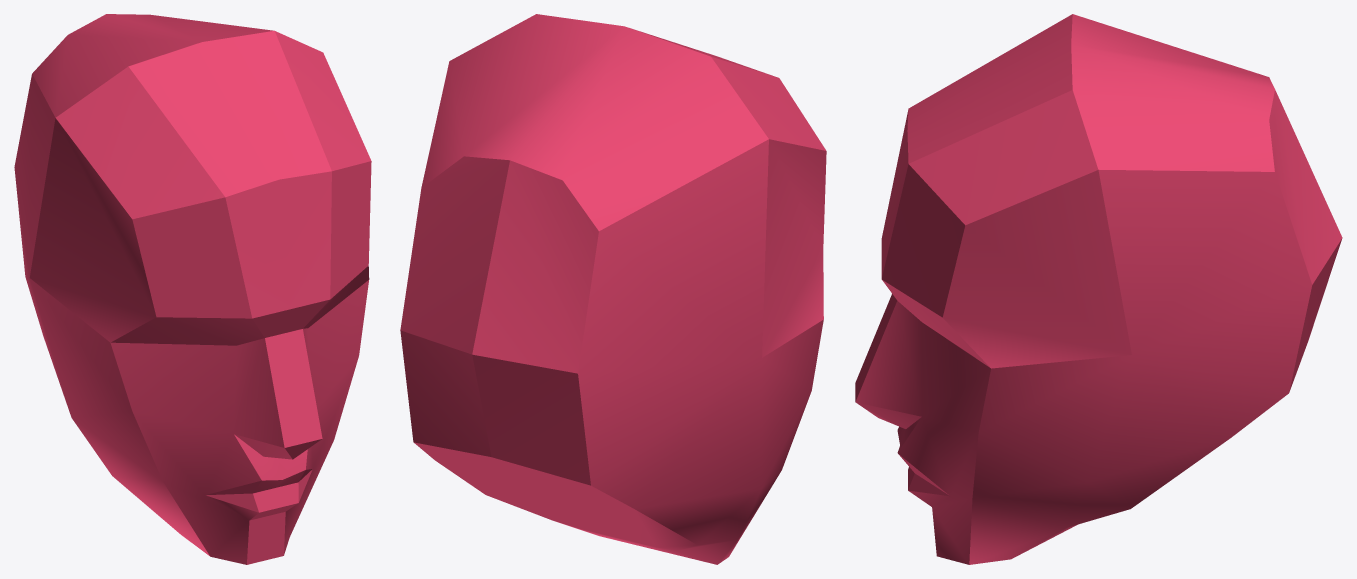
The picture shows the model from 3 angles, left to right: view 1: azimuth 30°, elevation 25°; view 2: azimuth 150°, elevation 25°; view 3: azimuth 270°, elevation 25°; orthographic projection. The views are drawn at different scales.
Visible parts, largest first — view 1: head-40deg; view 2: head-40deg; view 3: head-40deg.
Part boxes in pixels (x1,y1,x2,y2): head-40deg: (14, 14, 371, 564); head-40deg: (400, 14, 826, 564); head-40deg: (855, 14, 1342, 564).
Bounding box in the file's own units: 2.06 × 3.23 × 2.83.
